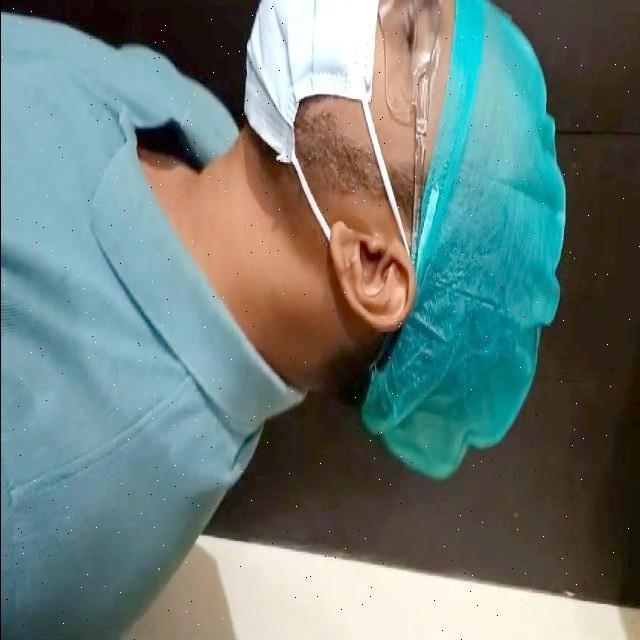gloves: (406, 13, 579, 469)
mask: (252, 1, 384, 217)
